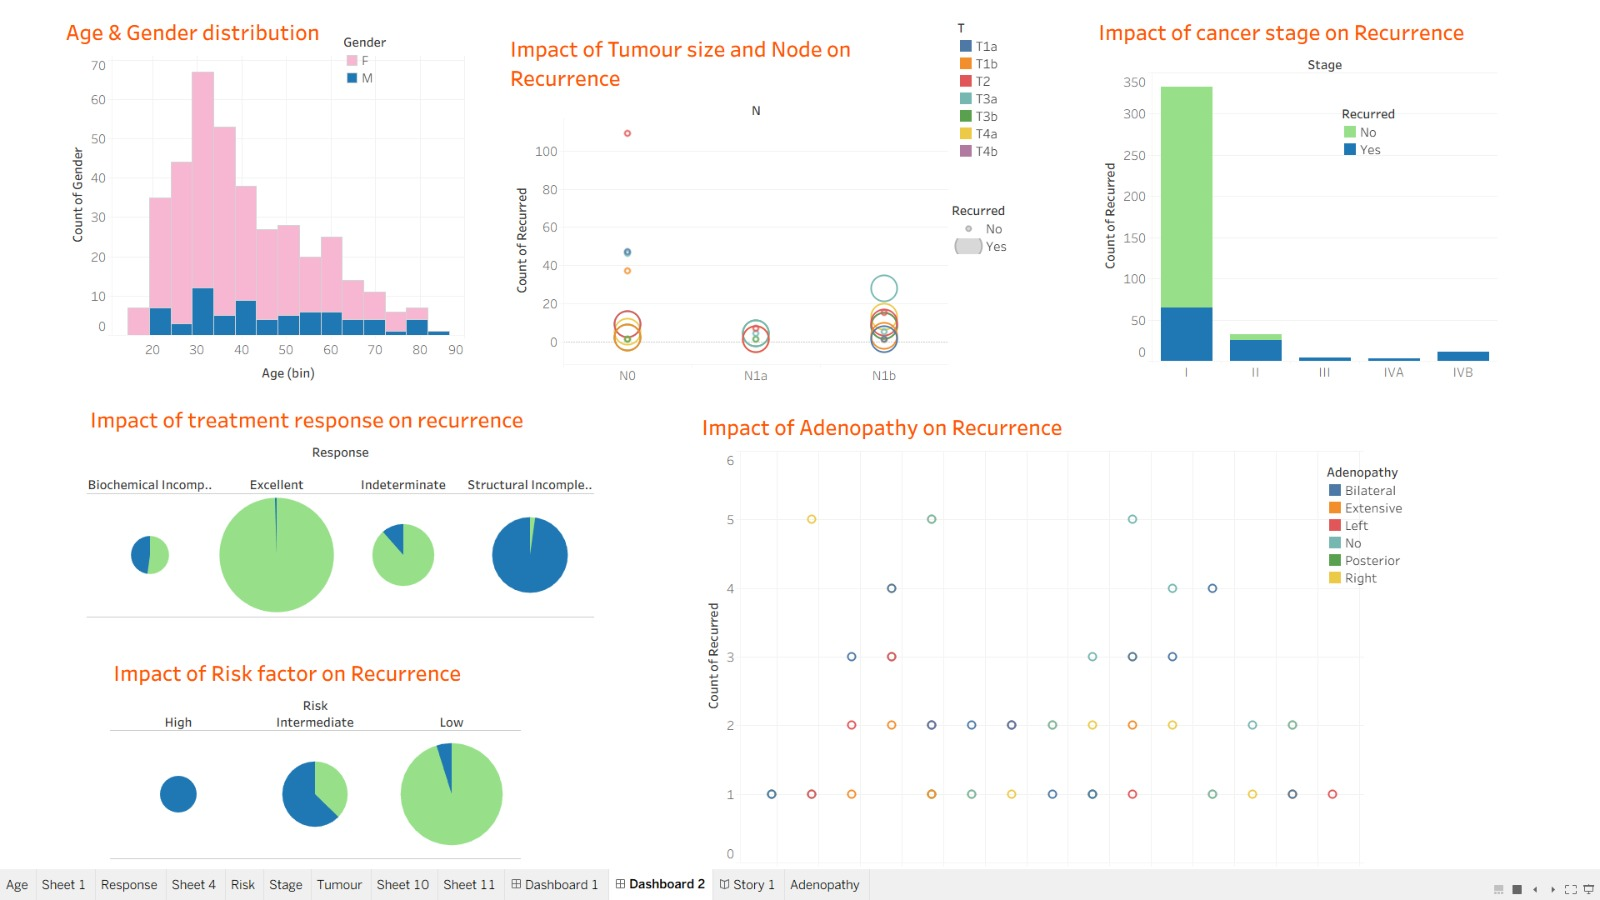

Layout of this report page (visuals, bound fields, positions):
{"tool":"tableau","page":{"name":"Dashboard 2","canvas":[1000,1000],"units":"permille","ordinal":1},"visuals":[{"type":"legend","title":"Tumour","param":"[federated.1gid8661ezr08y1ebo66f04imrai].[none:T:nk]","box":[630.3,22.3,96.5,198.4]},{"type":"worksheet","title":"Tumour","mark":"Shape","rows":["Recurred"],"cols":["N"],"box":[257.2,35.2,365.5,407.3]},{"type":"legend","title":"Age","param":"[federated.1gid8661ezr08y1ebo66f04imrai].[none:Gender:nk]","box":[122.1,38.7,96.5,75.1]},{"type":"legend","title":"Tumour","param":"[federated.1gid8661ezr08y1ebo66f04imrai].[none:Recurred:nk]","box":[625.5,232.4,72.4,92.7]},{"type":"legend","title":"Stage","param":"[federated.1gid8661ezr08y1ebo66f04imrai].[cnt:Recurred:qk]","box":[357.9,416.7,96.5,103.3]},{"type":"legend","title":"Adenopathy","param":"[federated.1gid8661ezr08y1ebo66f04imrai].[none:Focality:nk]","box":[691.7,457.8,96.5,75.1]}]}

Visuals, with their boxes on the dashboard's canvas, which has no fixed pixel size, in thousandths of its width and height (x1, y1, x2, y2). These are canvas units, not pixel positions in the 1600x900 screenshot, which may show the page scaled, cropped or inside an application window:
"Tumour" legend: locate(630, 22, 727, 221)
"Tumour" worksheet (Shape marks): locate(257, 35, 623, 442)
"Age" legend: locate(122, 39, 219, 114)
"Tumour" legend: locate(626, 232, 698, 325)
"Stage" legend: locate(358, 417, 454, 520)
"Adenopathy" legend: locate(692, 458, 788, 533)
